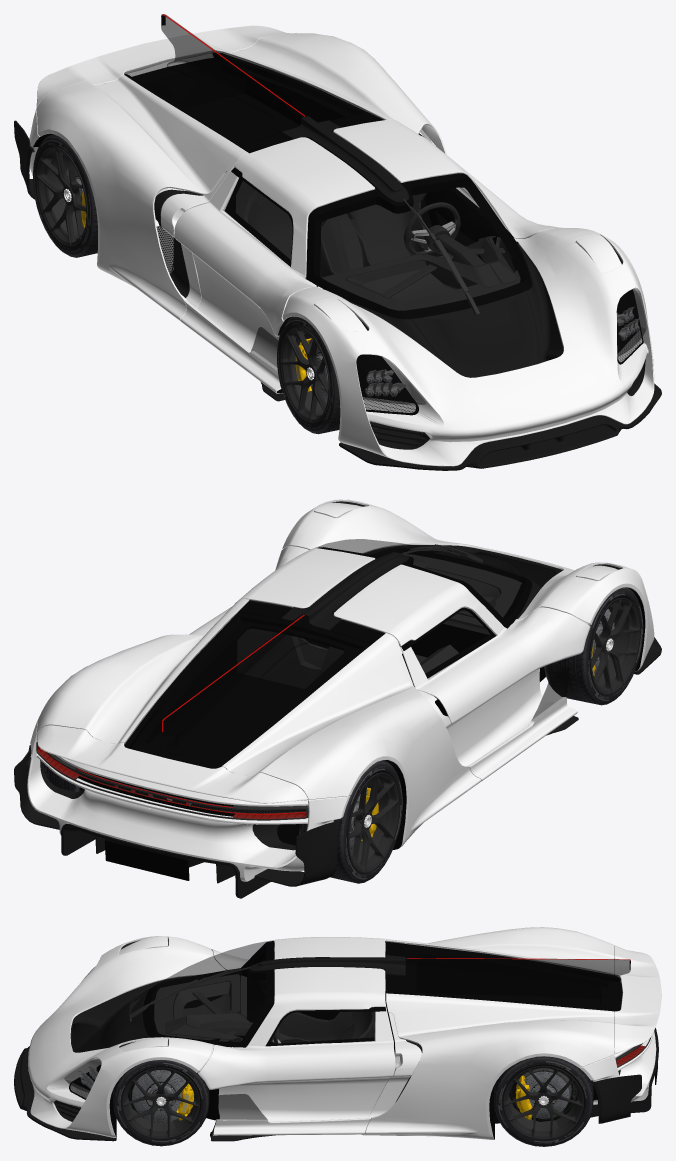
Rendered from 2022_arash_imperium.glb.
3 views of the same model, one above another, from view 1: azimuth 30°, elevation 25°; view 2: azimuth 150°, elevation 25°; view 3: azimuth 270°, elevation 25° (orthographic). The views are drawn at different scales.
Visible parts, largest first — view 1: carbon, Windows, Misc, Car_Second_Paint, Rim_RR, Rim_FR, Tire_RR, Tire_FR, Light_mesh, Grid_1; view 2: carbon, Misc, Windows, Car_Second_Paint, Rim_RR, Rim_FR, Tire_FR, Tire_RR, Plate_mesh, Light_mesh, grid_2; view 3: carbon, Windows, Misc, Car_Second_Paint, rim_FL, Rim_RL, Tire_RL, Tire_FL, Light_mesh, Caliper_RL, Caliper_FL.
Boxes of the visible parts, left/top/right/bottom form: carbon: left=14, top=25, right=654, bottom=466; Windows: left=124, top=14, right=646, bottom=404; Misc: left=33, top=53, right=643, bottom=434; Car_Second_Paint: left=281, top=116, right=661, bottom=470; Rim_RR: left=36, top=146, right=87, bottom=246; Rim_FR: left=280, top=326, right=330, bottom=423; Tire_RR: left=32, top=134, right=97, bottom=257; Tire_FR: left=277, top=316, right=340, bottom=434; Light_mesh: left=161, top=14, right=640, bottom=396; Grid_1: left=157, top=226, right=641, bottom=412; carbon: left=14, top=499, right=654, bottom=898; Misc: left=36, top=501, right=645, bottom=849; Windows: left=124, top=539, right=569, bottom=768; Car_Second_Paint: left=281, top=545, right=661, bottom=674; Rim_RR: left=347, top=772, right=399, bottom=872; Rim_FR: left=590, top=597, right=640, bottom=694; Tire_FR: left=544, top=587, right=643, bottom=705; Tire_RR: left=299, top=760, right=402, bottom=883; Plate_mesh: left=104, top=839, right=189, bottom=880; Light_mesh: left=57, top=615, right=305, bottom=814; grid_2: left=61, top=764, right=306, bottom=813; carbon: left=28, top=927, right=661, bottom=1141; Windows: left=64, top=940, right=630, bottom=1120; Misc: left=69, top=938, right=651, bottom=1139; Car_Second_Paint: left=14, top=955, right=405, bottom=1141; rim_FL: left=122, top=1067, right=200, bottom=1139; Rim_RL: left=503, top=1065, right=583, bottom=1139; Tire_RL: left=494, top=1056, right=593, bottom=1146; Tire_FL: left=113, top=1060, right=209, bottom=1146; Light_mesh: left=78, top=958, right=633, bottom=1089; Caliper_RL: left=515, top=1075, right=532, bottom=1119; Caliper_FL: left=176, top=1080, right=194, bottom=1120.
Size of the model in its own units: 0.0217 by 0.0109 by 0.049.
18 materials, 10 textured.
